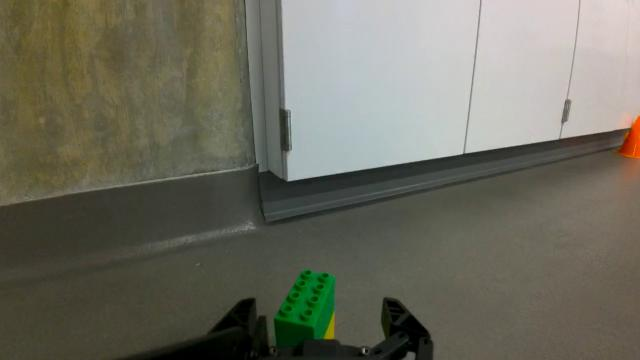lego: (269, 262, 340, 357)
